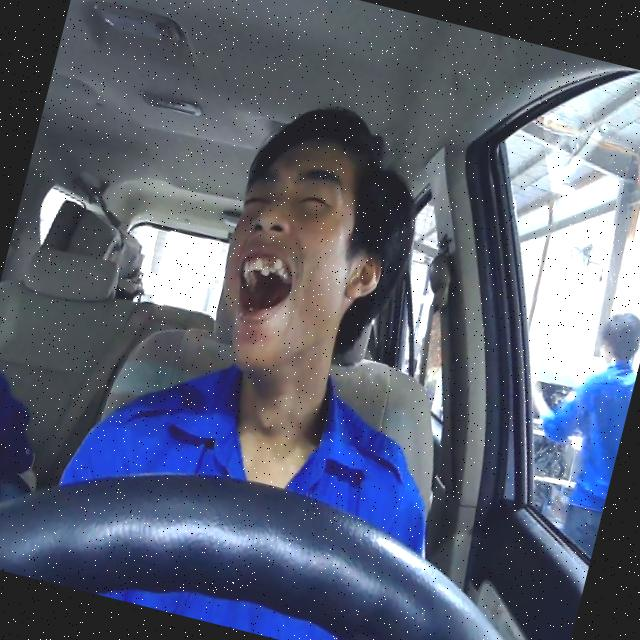yarning: (200, 125, 406, 389)
